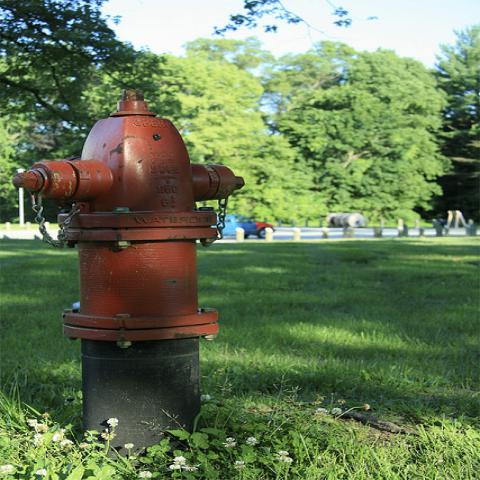car: (223, 214, 276, 239)
